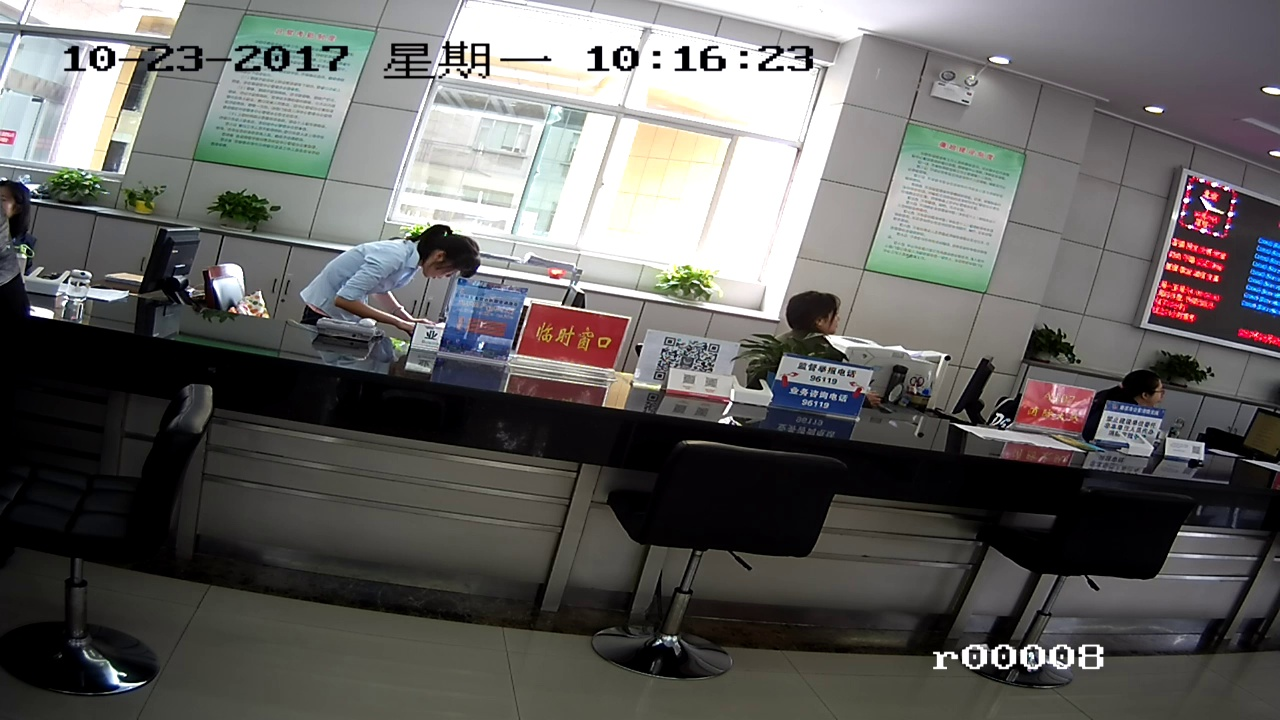billboard: (889, 127, 1020, 298), (224, 11, 349, 183), (523, 311, 616, 375), (774, 359, 860, 425), (1015, 386, 1086, 446)
chair: (617, 441, 829, 685), (1007, 484, 1181, 687)
desk: (25, 381, 207, 699)
monitor: (1155, 168, 1269, 349), (1240, 409, 1277, 463)
person: (296, 226, 471, 322), (1095, 362, 1173, 420), (782, 299, 848, 354)
pot: (211, 191, 267, 237), (655, 265, 709, 304), (1035, 323, 1078, 369), (51, 165, 97, 203)
